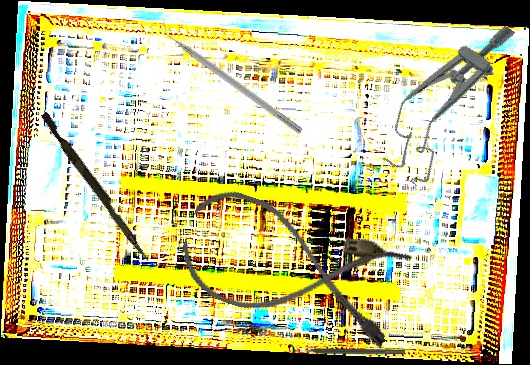Cannula: (170, 181, 414, 355)
Chopper: (154, 15, 310, 136)
Fixation Ring: (288, 343, 405, 361)
Pusher: (37, 111, 155, 263)
Speculum: (366, 1, 528, 191)
